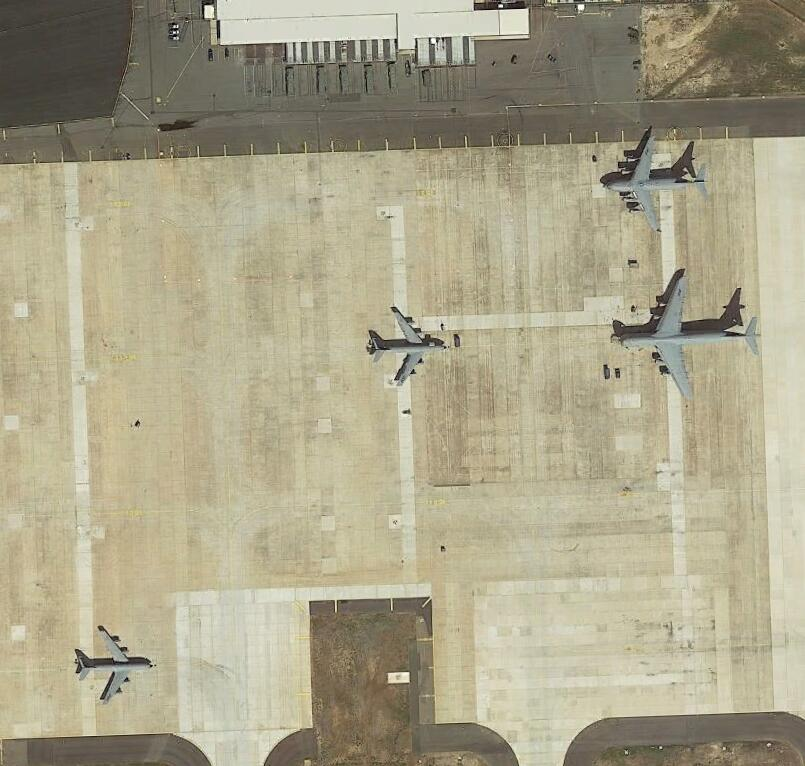A14: (366, 307, 452, 389), (75, 622, 155, 706)
A3: (600, 134, 712, 235)
A4: (610, 270, 769, 406)
